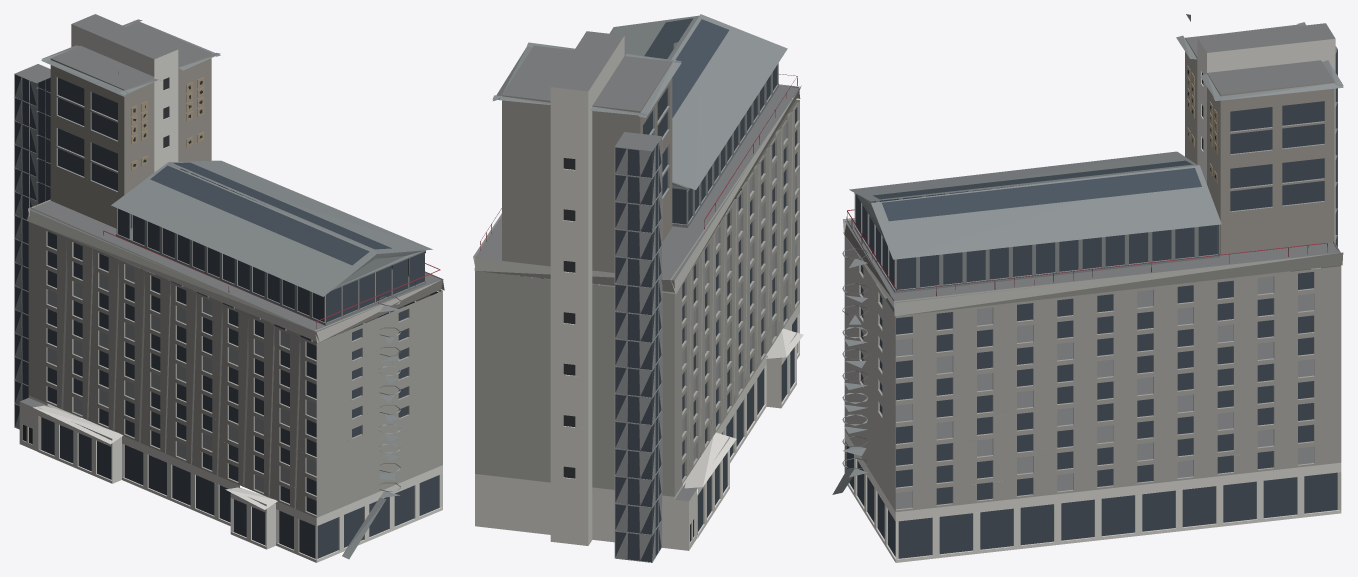
File: betonnen-silo-silodam.lod1.glb
The picture shows the model from 3 angles, left to right: view 1: azimuth 30°, elevation 25°; view 2: azimuth 150°, elevation 25°; view 3: azimuth 270°, elevation 25°; orthographic projection. The views are drawn at different scales.
Visible parts, largest first — view 1: betonnen-silo-silodam; view 2: betonnen-silo-silodam; view 3: betonnen-silo-silodam.
Part boxes in pixels (left/top/right/bottom): betonnen-silo-silodam: left=14, top=14, right=444, bottom=562; betonnen-silo-silodam: left=473, top=14, right=803, bottom=562; betonnen-silo-silodam: left=832, top=14, right=1343, bottom=562.
Bounding box in the file's own units: 32.71 × 48.7 × 51.16.
